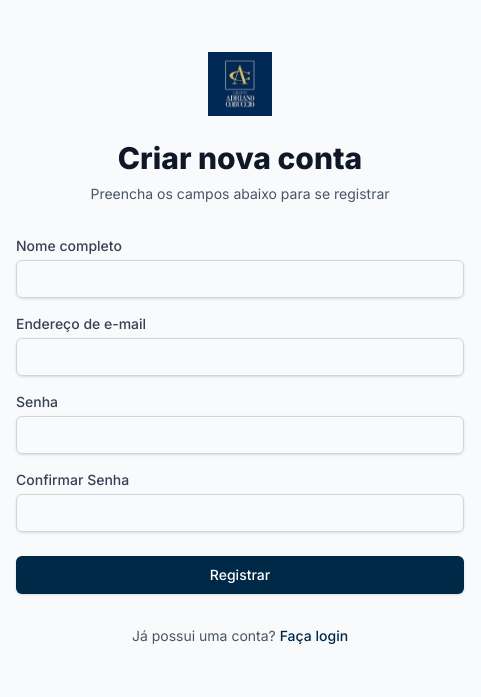
RegisterPage › shows validation errors if inputs are invalid
The width and height of the screenshot is (481, 697).
Click the button "Registrar" at (240, 575), box [16,556,464,594]
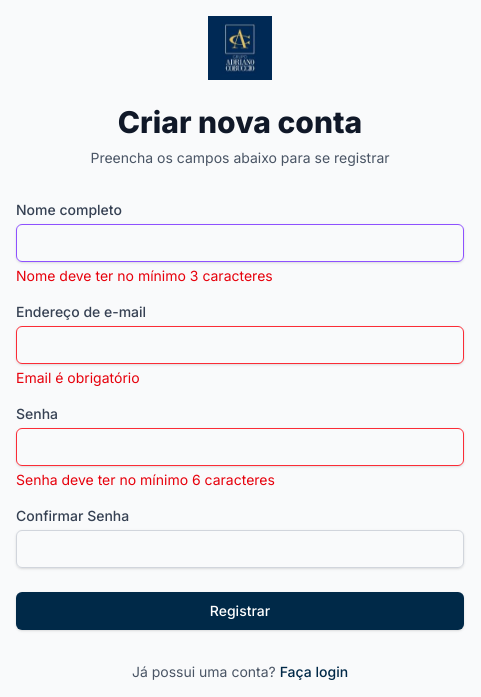
expect the text "Nome deve ter no mínimo 3 caracteres" is shown: met, box [16,267,273,284]
expect the text "Email é obrigatório" is shown: met, box [16,369,140,386]
expect the text "Senha deve ter no mínimo 6 caracteres" is shown: met, box [16,471,275,488]
